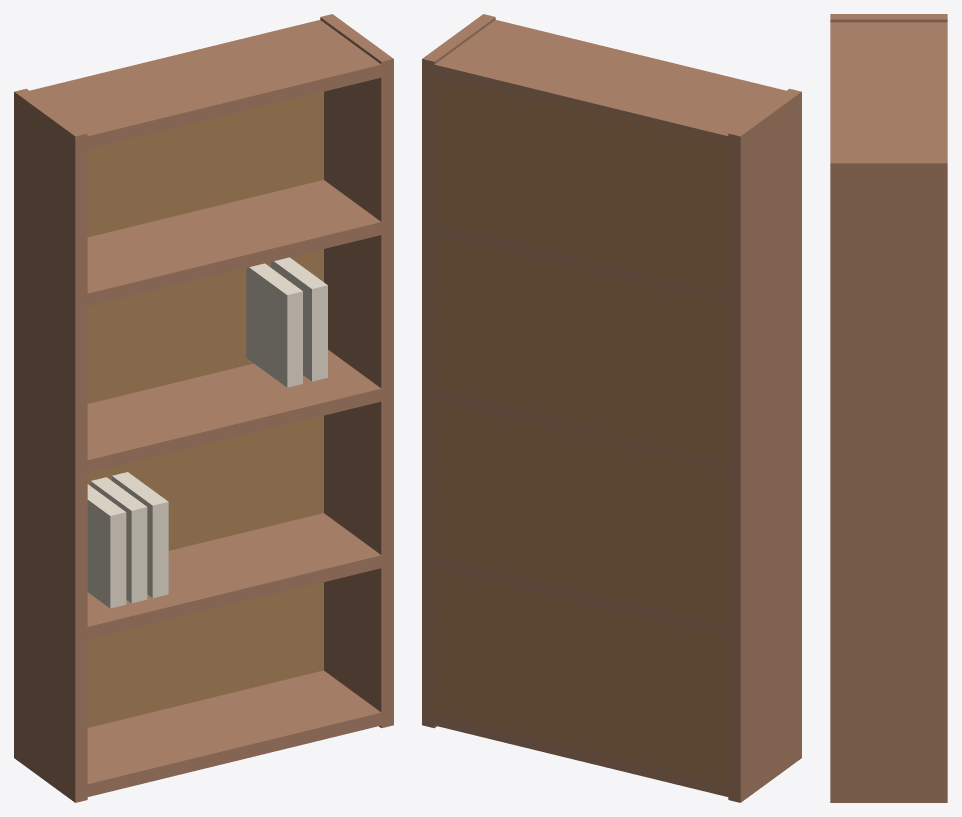
Rendered from bookcase.glb.
The picture shows the model from 3 angles, left to right: view 1: azimuth 30°, elevation 25°; view 2: azimuth 150°, elevation 25°; view 3: azimuth 270°, elevation 25°; orthographic projection. The views are drawn at different scales.
Parts seen in each view (by area): view 1: poc-bookcase-part-118, poc-bookcase-part-111, poc-bookcase-part-112, poc-bookcase-part-117, poc-bookcase-part-116, poc-bookcase-part-113, poc-bookcase-part-115, poc-bookcase-part-114, poc-bookcase-part-122, poc-bookcase-part-119, poc-bookcase-part-123, poc-bookcase-part-120 (+1 smaller); view 2: poc-bookcase-part-118, poc-bookcase-part-111, poc-bookcase-part-117, poc-bookcase-part-112, poc-bookcase-part-113, poc-bookcase-part-116, poc-bookcase-part-114, poc-bookcase-part-115; view 3: poc-bookcase-part-112, poc-bookcase-part-117, poc-bookcase-part-111, poc-bookcase-part-113, poc-bookcase-part-115.
Part boxes in pixels (x1,y1,x2,y2): poc-bookcase-part-118: (87, 91, 323, 727); poc-bookcase-part-111: (14, 88, 87, 802); poc-bookcase-part-112: (320, 14, 393, 728); poc-bookcase-part-117: (14, 20, 393, 151); poc-bookcase-part-116: (14, 180, 393, 308); poc-bookcase-part-113: (14, 670, 393, 799); poc-bookcase-part-115: (52, 350, 393, 475); poc-bookcase-part-114: (23, 513, 392, 639); poc-bookcase-part-122: (246, 263, 302, 387); poc-bookcase-part-119: (87, 484, 126, 608); poc-bookcase-part-123: (271, 257, 327, 381); poc-bookcase-part-120: (90, 477, 147, 603); poc-bookcase-part-118: (427, 73, 735, 785); poc-bookcase-part-111: (728, 88, 801, 802); poc-bookcase-part-117: (422, 20, 801, 151); poc-bookcase-part-112: (422, 14, 495, 728); poc-bookcase-part-113: (422, 710, 797, 799); poc-bookcase-part-116: (422, 219, 801, 309); poc-bookcase-part-114: (422, 554, 777, 638); poc-bookcase-part-115: (422, 386, 799, 472); poc-bookcase-part-112: (830, 157, 947, 802); poc-bookcase-part-117: (830, 22, 947, 178); poc-bookcase-part-111: (830, 14, 947, 22); poc-bookcase-part-113: (830, 792, 947, 800); poc-bookcase-part-115: (830, 477, 947, 489).
Size of the model in its own units: 0.9 by 1.8 by 0.3.
